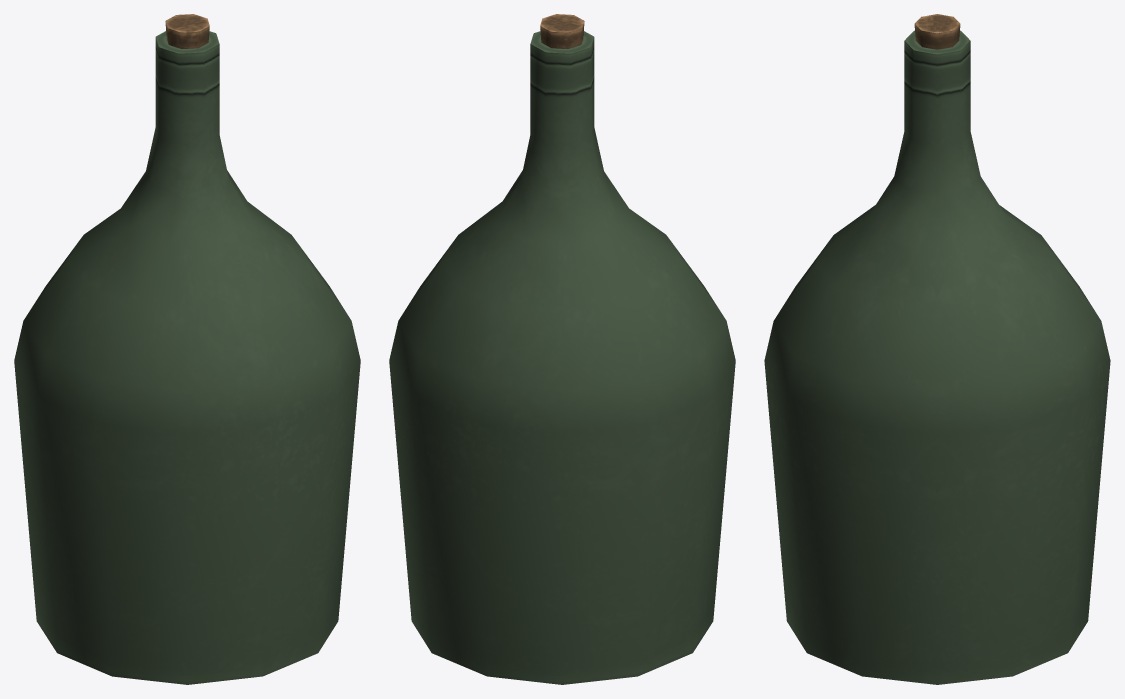
The model's file is LOD1_bigBottle_closed.fbx.
The picture shows the model from 3 angles, left to right: view 1: azimuth 30°, elevation 25°; view 2: azimuth 150°, elevation 25°; view 3: azimuth 270°, elevation 25°; orthographic projection.
Visible parts, largest first — view 1: LOD1_bigBottle_closed; view 2: LOD1_bigBottle_closed; view 3: LOD1_bigBottle_closed.
Part boxes in pixels (<box>): LOD1_bigBottle_closed: <box>14,14,360,684</box>; LOD1_bigBottle_closed: <box>389,14,735,684</box>; LOD1_bigBottle_closed: <box>764,14,1110,684</box>.
Size of the model in its own units: 0.2174 by 0.4141 by 0.2174.
